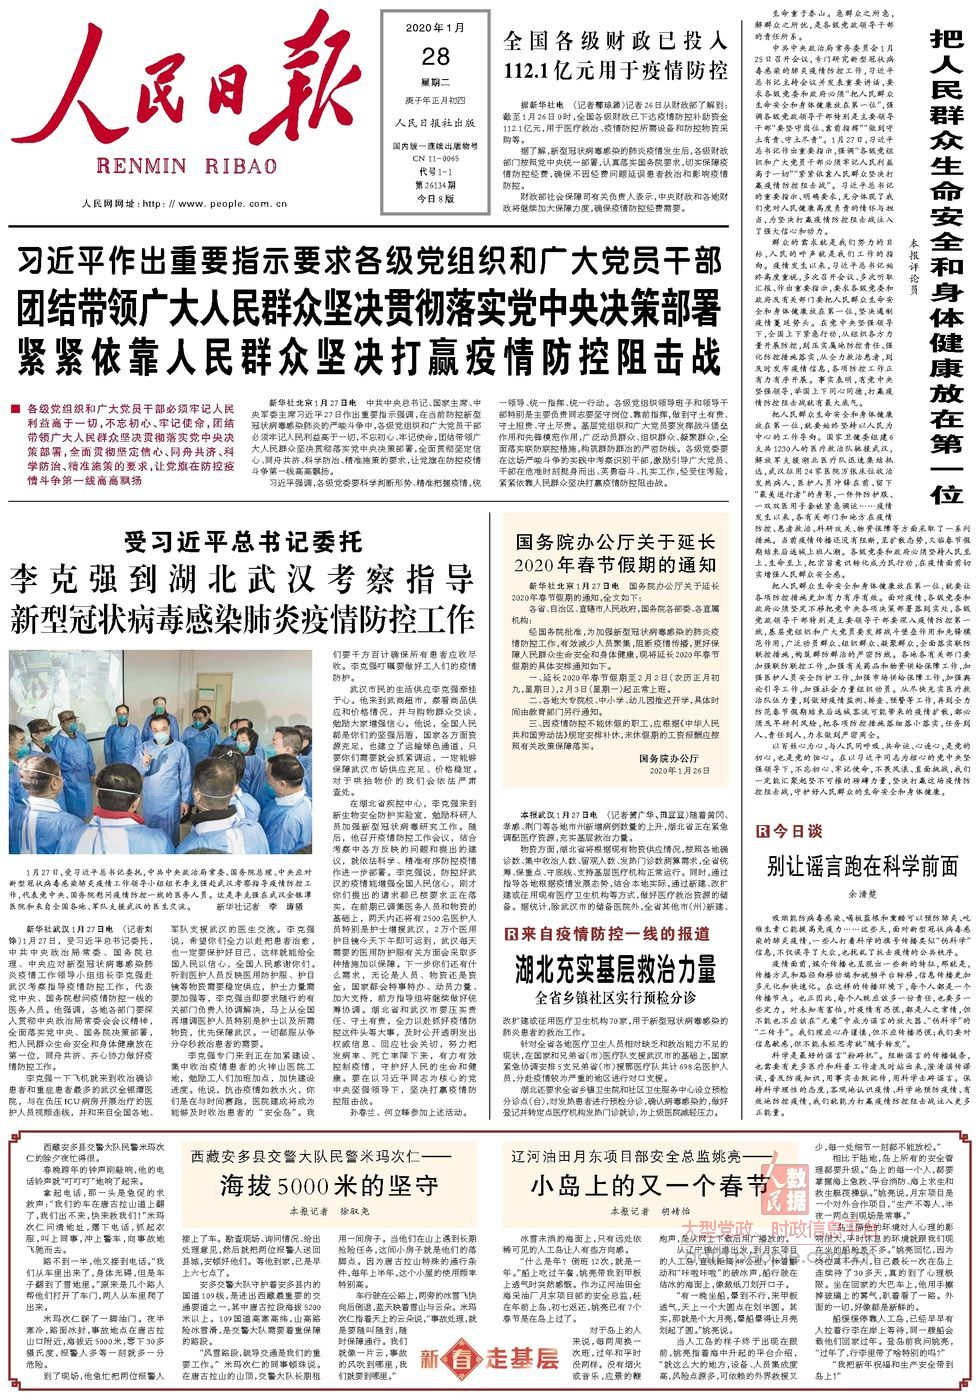pic: (5, 645, 317, 859)
